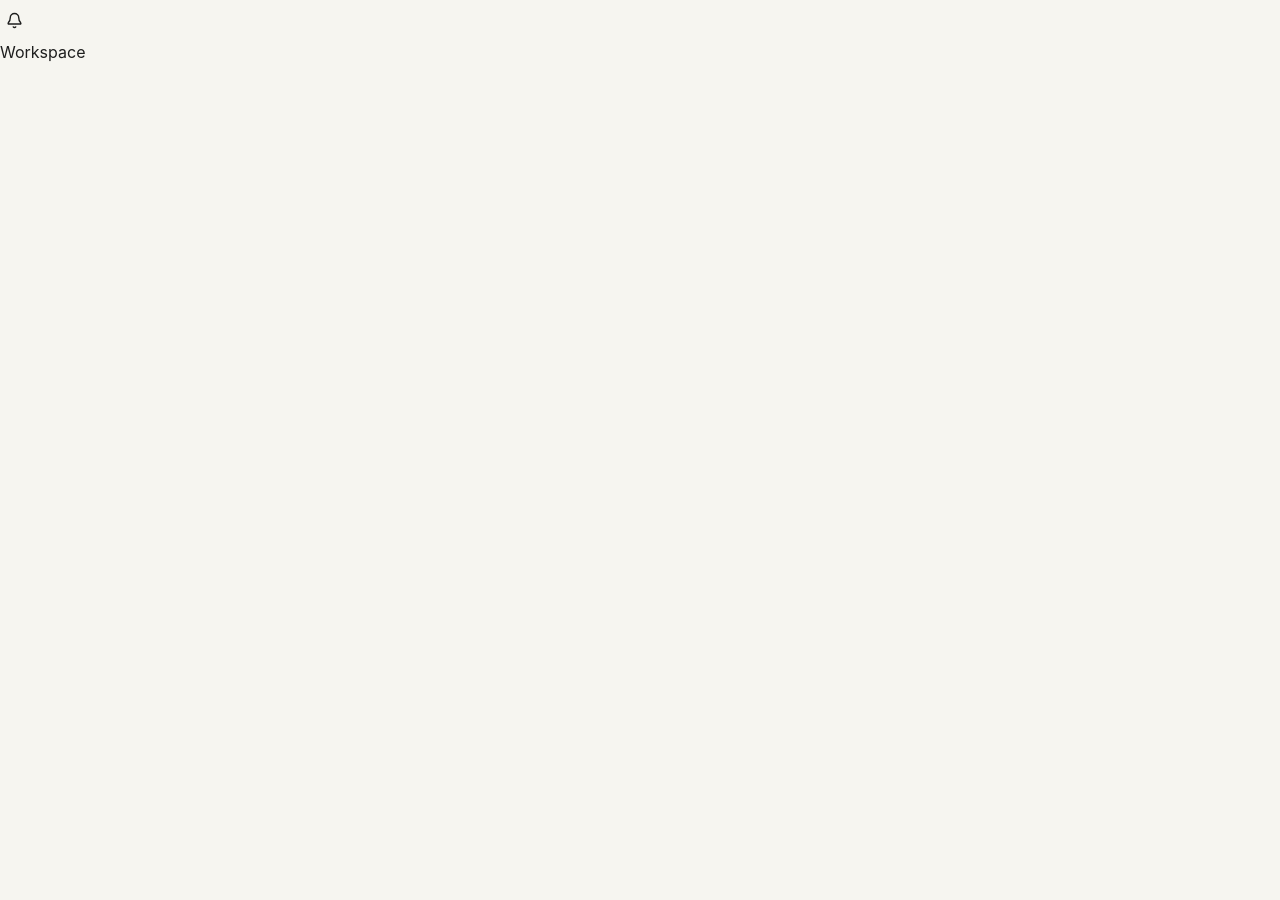
Test case: only navigates after persistence and no-link notifications keep the popup open
Click the button named "Thông báo (3 chưa đọc)" at (20, 20), box [0,0,40,40]
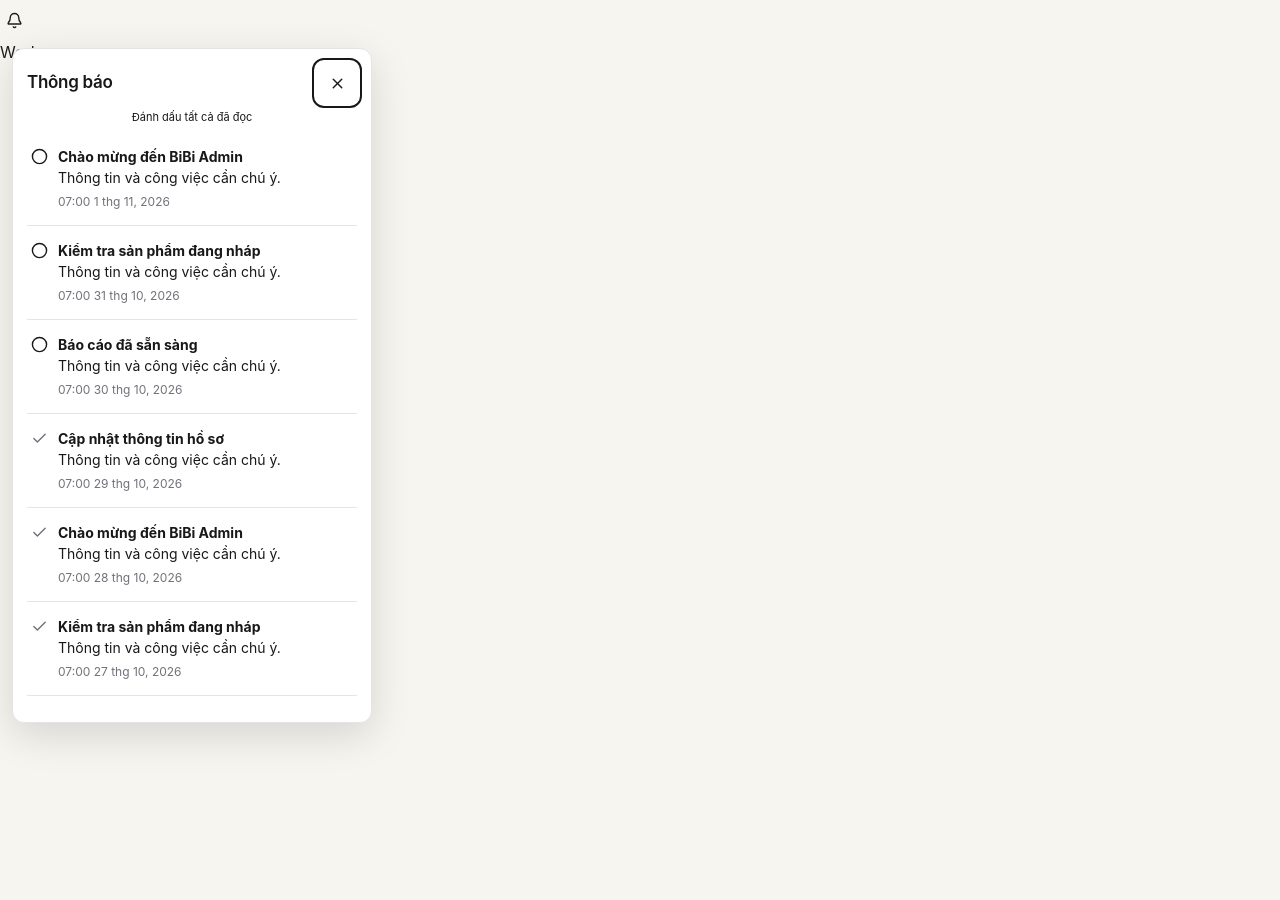
Click the button with aria-label "Chưa đọc: Chào mừng đến BiBi Admin" at (192, 179), box [27,132,357,226]
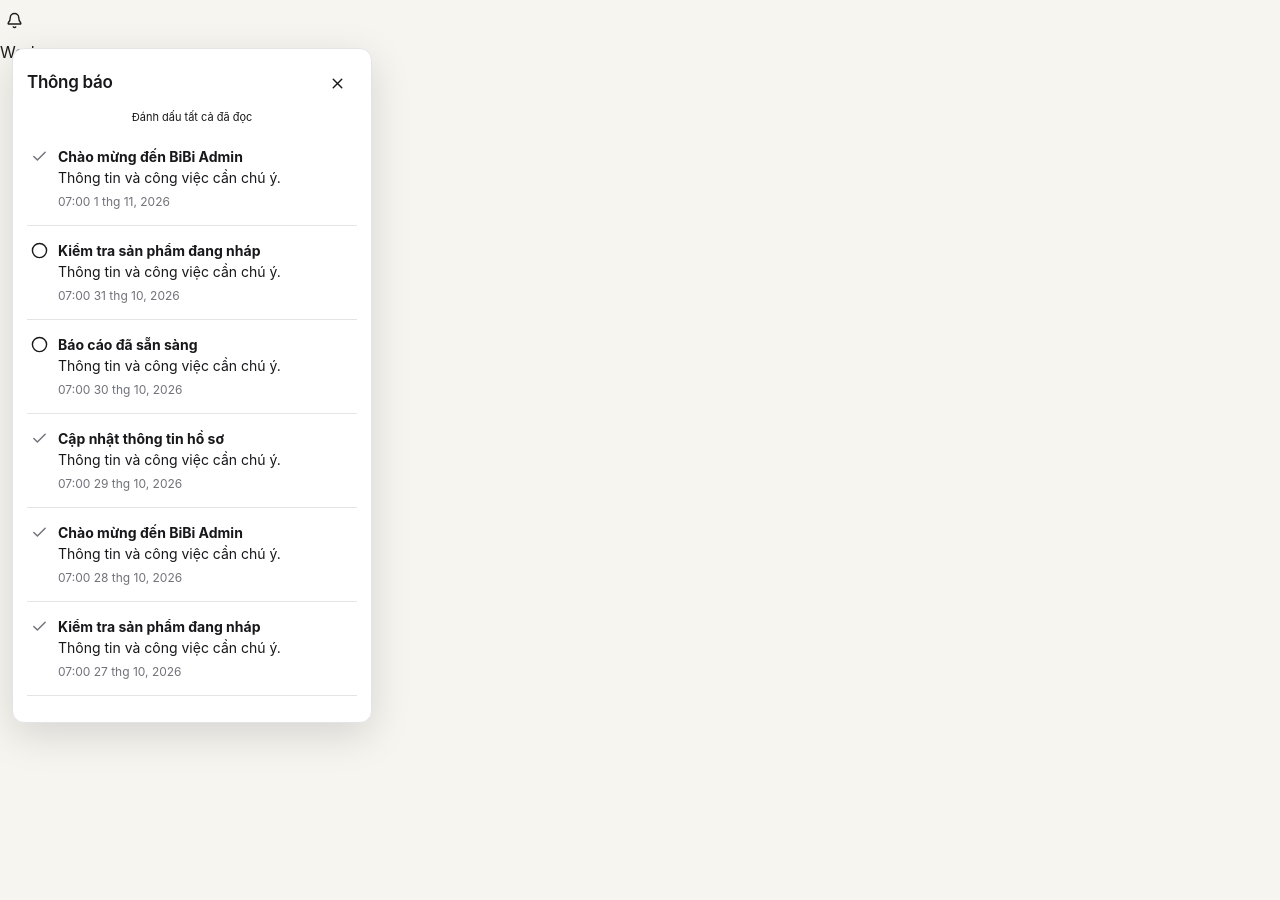
Check: the button named "Thông báo (2 chưa đọc)" is shown, box [0,0,40,40]
Check: the dialog "Thông báo" is shown, box [12,48,372,723]
Check: the button with aria-label "Chưa đọc: Báo cáo đã sẵn sàng" is enabled
Click the button with aria-label "Chưa đọc: Báo cáo đã sẵn sàng" at (192, 367), box [27,320,357,414]
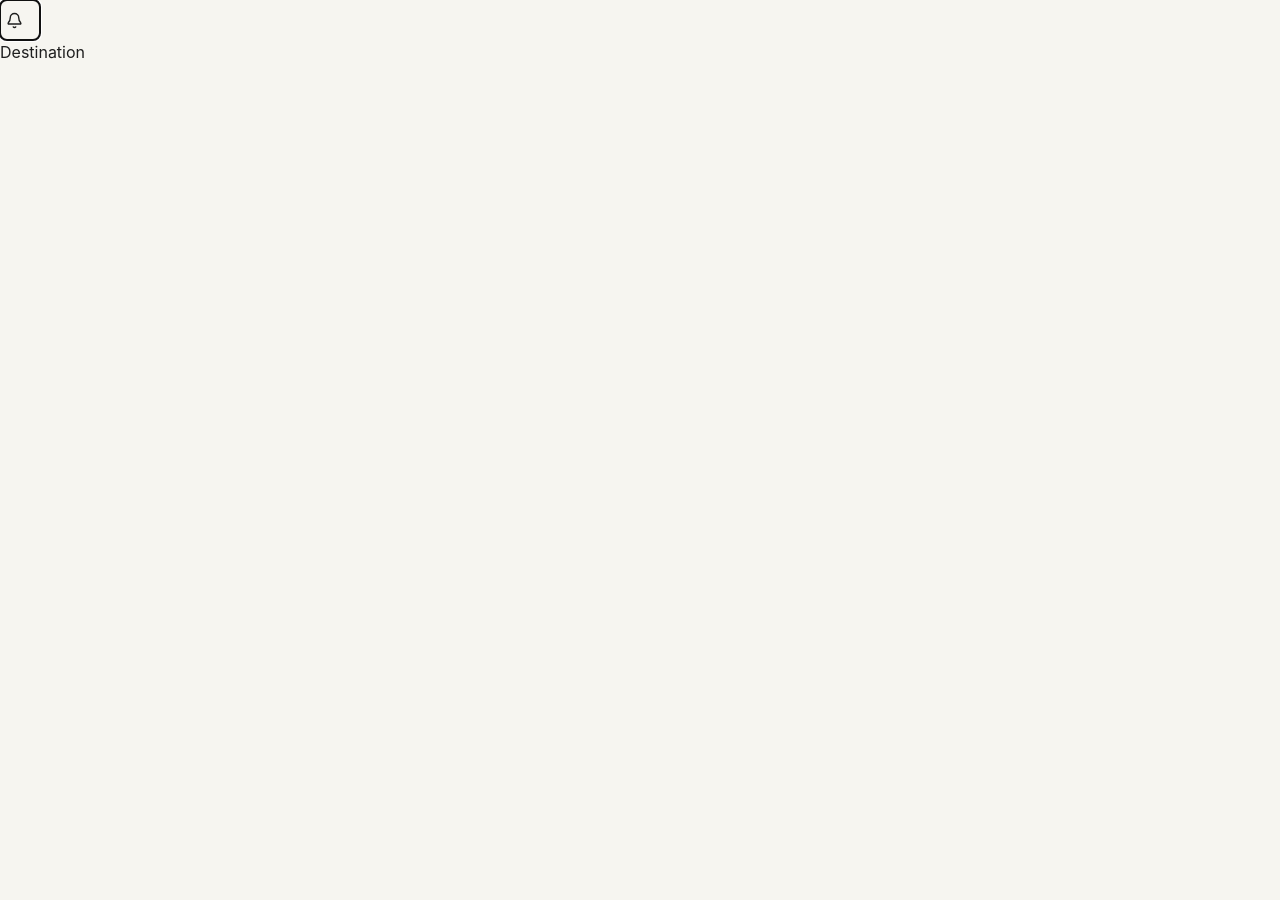
Check: the heading "Thông báo" is gone
